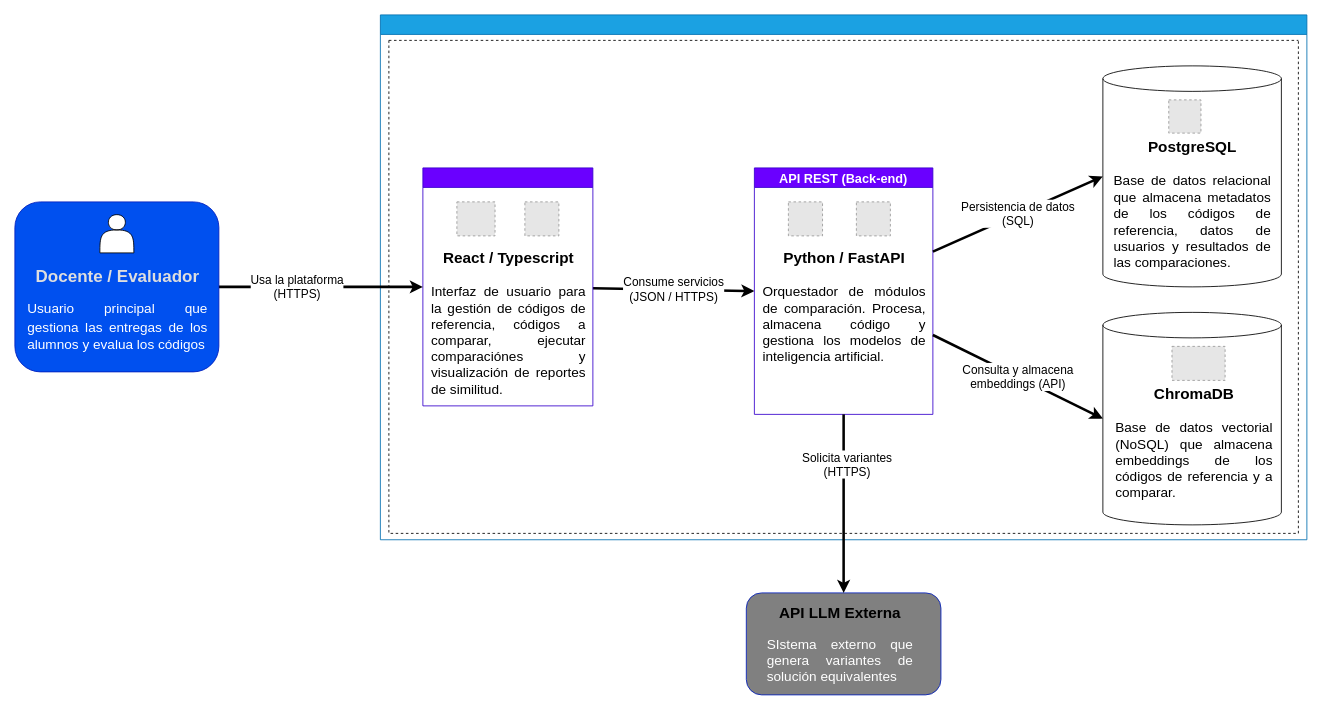
Some shapes in this 1322 by 710 pixel diagram are drawn without their labels. Grey dashed boxes stand in for pictures. The shapes that lost their labels are listed below. From the top down, each one's box as (x1, y1, x2, y2) in pixels, then its label:
(422, 167, 593, 406): Aplicacion web (Front-end)
(380, 14, 1307, 540): GRAPHITO
